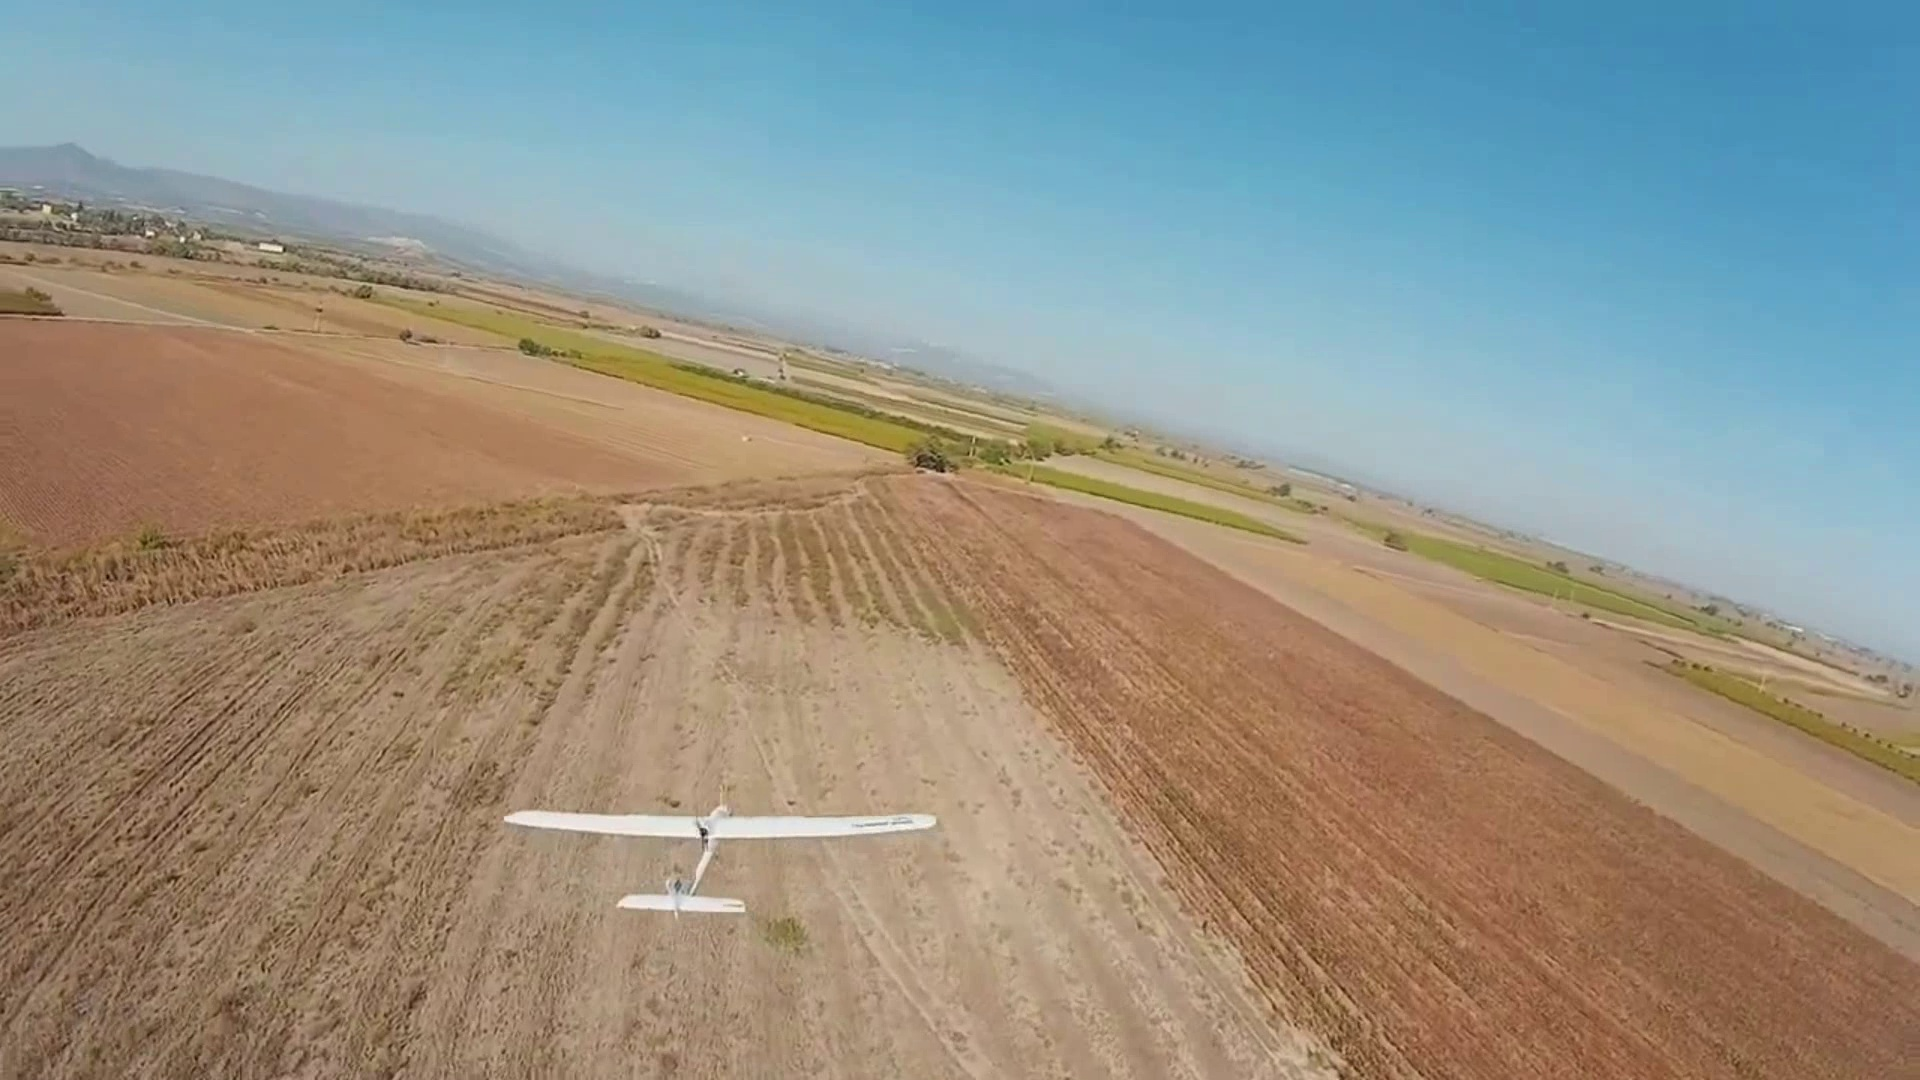airplane: (500, 804, 938, 920)
